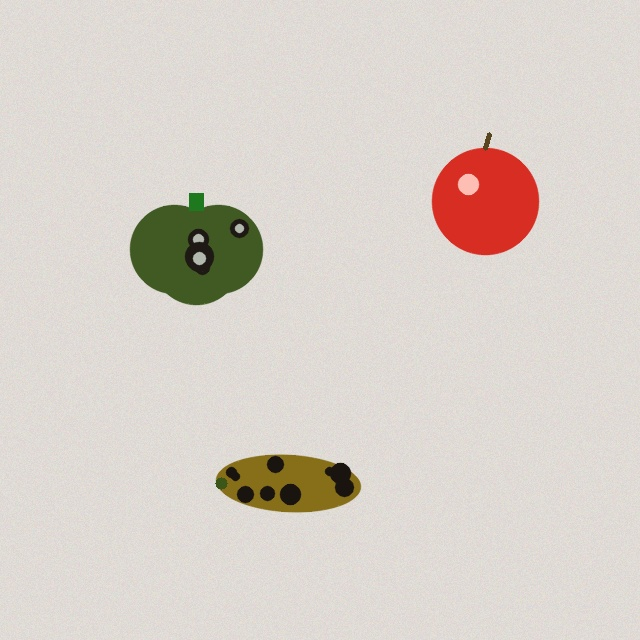Fresh apple: (432, 134, 538, 254)
Rotten banana: (213, 448, 363, 518)
Rotten bell pepper: (130, 193, 262, 304)
